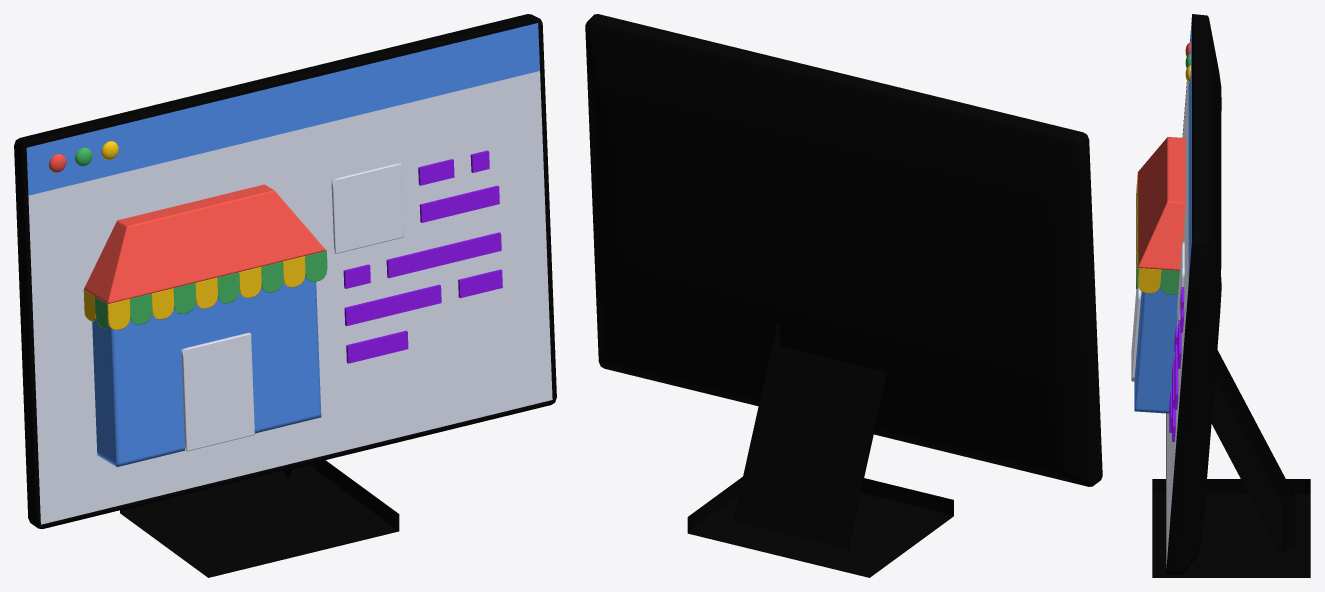
Rendered from web-dev.glb.
3 views of the same model, side by side, from view 1: azimuth 30°, elevation 25°; view 2: azimuth 150°, elevation 25°; view 3: azimuth 270°, elevation 25° (orthographic). The views are drawn at different scales.
Visible parts, largest first — view 1: Cube.029, Cube.027, Cube.031, Plane.028, Cube.028, Cube.030; view 2: Cube.029, Cube.030, Cube.031; view 3: Cube.029, Cube.027, Cube.031, Cube.030, Plane.028, Cube.028.
Part boxes in pixels (x1,y1,x2,y2): Cube.029: (14, 14, 556, 528); Cube.027: (83, 184, 327, 466); Cube.031: (120, 460, 399, 577); Plane.028: (343, 150, 502, 363); Cube.028: (331, 163, 403, 253); Cube.030: (170, 468, 292, 507); Cube.029: (585, 14, 1102, 486); Cube.030: (733, 322, 887, 549); Cube.031: (687, 477, 953, 577); Cube.029: (1166, 14, 1221, 575); Cube.027: (1131, 137, 1185, 413); Cube.031: (1152, 479, 1310, 577); Cube.030: (1211, 350, 1295, 553); Plane.028: (1169, 287, 1184, 441); Cube.028: (1177, 241, 1184, 334).
Size of the model in its own units: 10.25 by 8.61 by 3.4.
